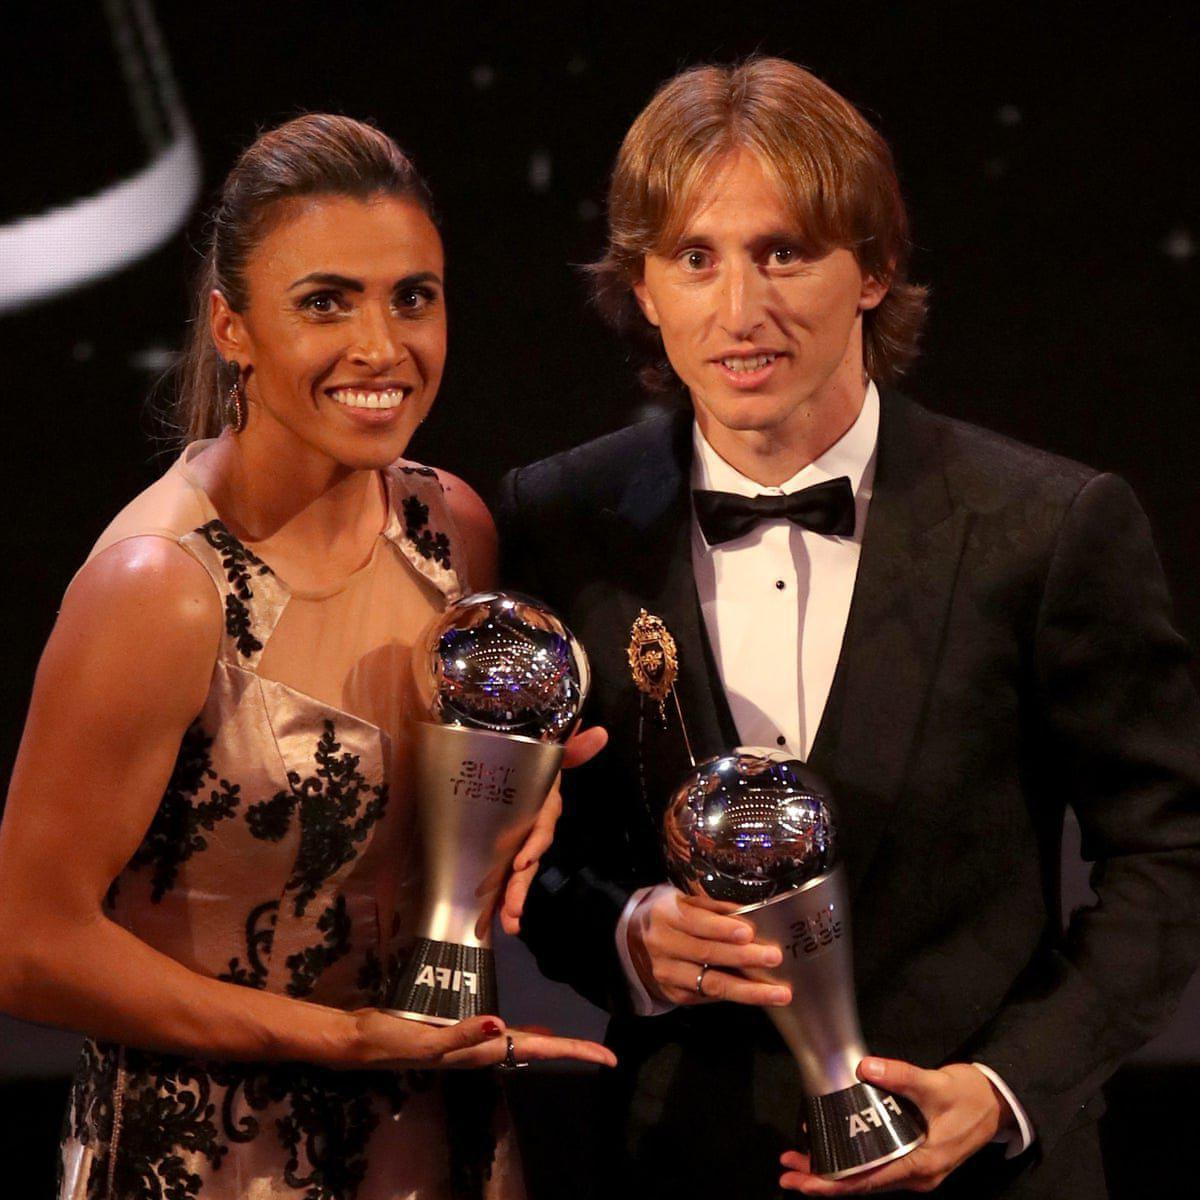Sober: (646, 176, 859, 414), (253, 176, 438, 444)
